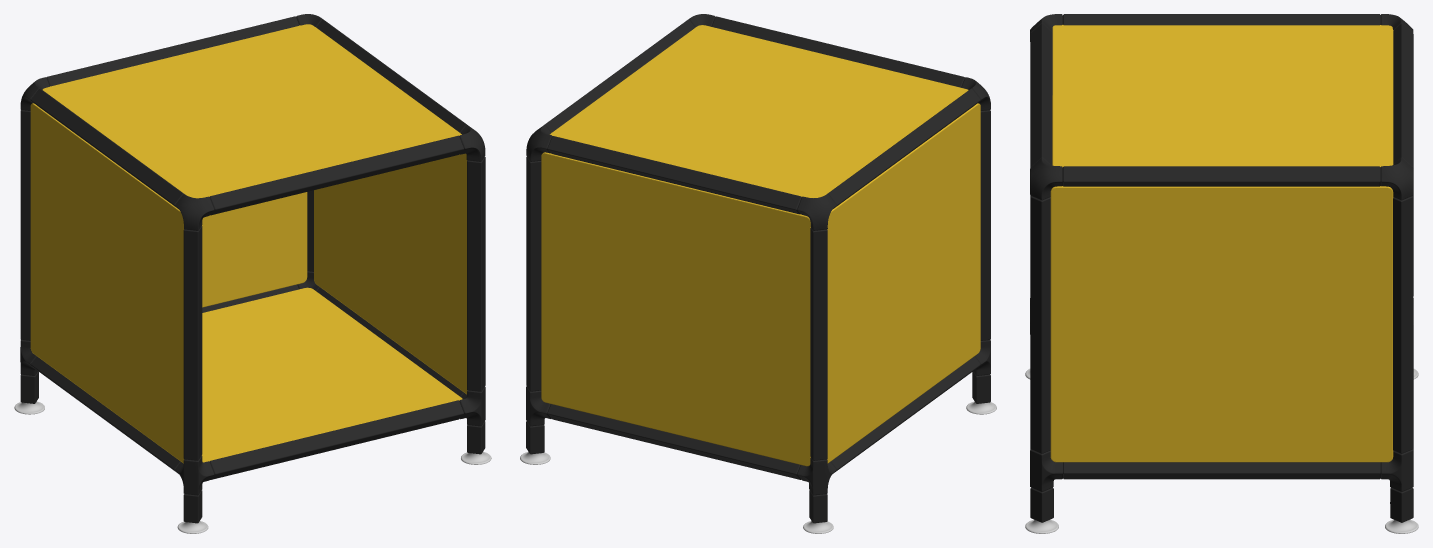
3 views of the same model, side by side, from view 1: azimuth 30°, elevation 25°; view 2: azimuth 150°, elevation 25°; view 3: azimuth 270°, elevation 25° (orthographic). The views are drawn at different scales.
Parts seen in each view (by area): view 1: 374x374x329; view 2: 374x374x329; view 3: 374x374x329.
Boxes of the visible parts, <box> form: 374x374x329: <box>14,14,491,533</box>; 374x374x329: <box>520,14,996,533</box>; 374x374x329: <box>1025,14,1418,533</box>.
Bounding box in the file's own units: 0.4639 × 0.4683 × 0.4632.
